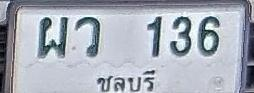1: (148, 16, 162, 56)
3: (170, 16, 191, 56)
6: (198, 16, 220, 56)
A28: (38, 16, 68, 58)
A37: (75, 16, 100, 57)
CBI: (94, 66, 158, 93)
